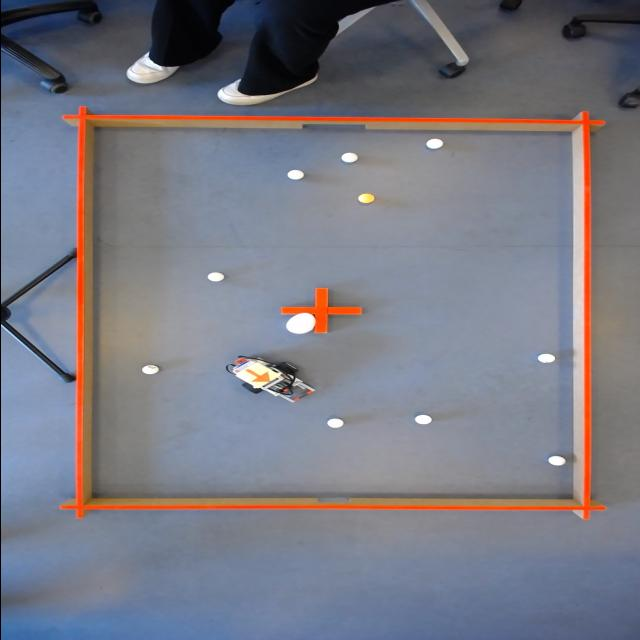cross: (278, 286, 363, 335)
egg: (282, 312, 317, 334)
orange_ball: (352, 192, 376, 205)
robot: (232, 361, 284, 392)
white_ball: (201, 270, 225, 284), (322, 416, 346, 430), (544, 454, 568, 468), (282, 169, 308, 181), (421, 137, 445, 150), (138, 364, 161, 376), (410, 414, 432, 426), (337, 151, 358, 163), (534, 352, 556, 363)
